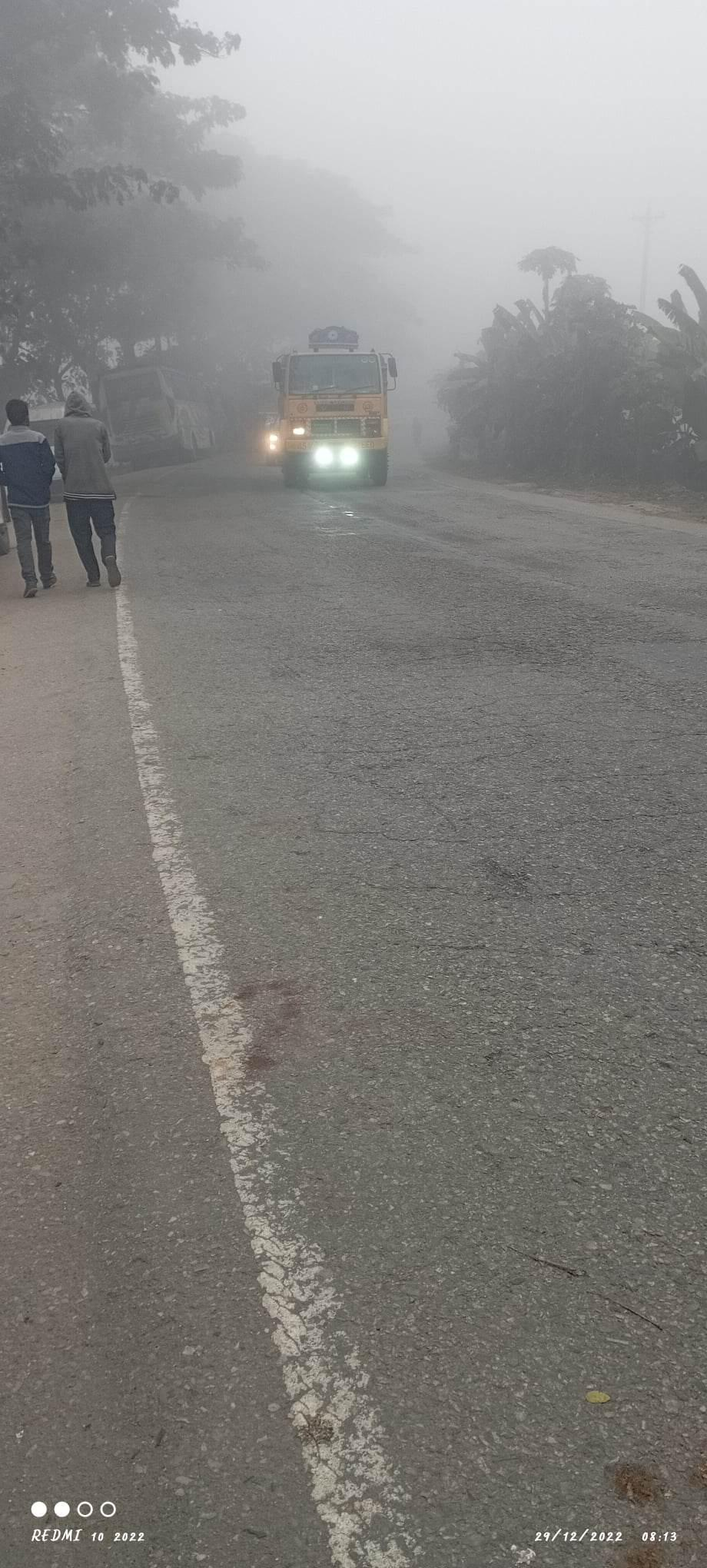Bus: (98, 326, 217, 484)
Truck: (264, 317, 423, 509)
